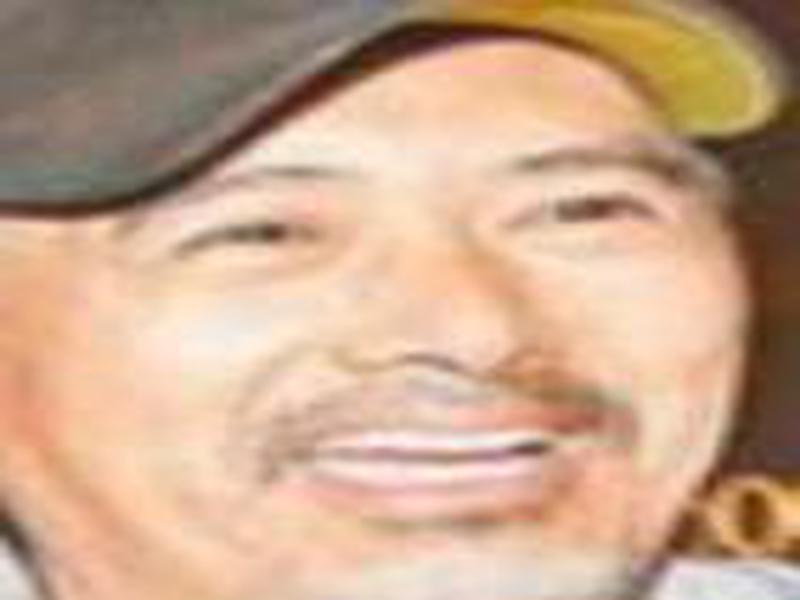without_mask: (53, 84, 734, 597)
